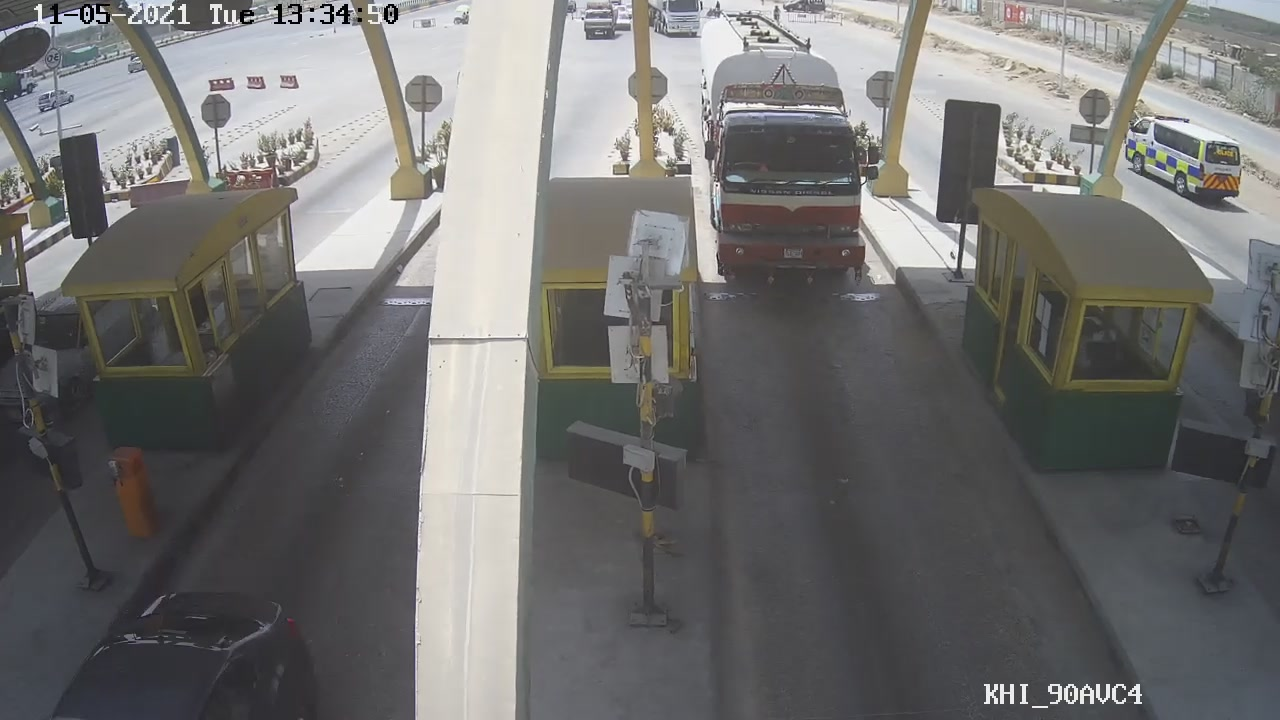F6: (696, 10, 883, 292)
